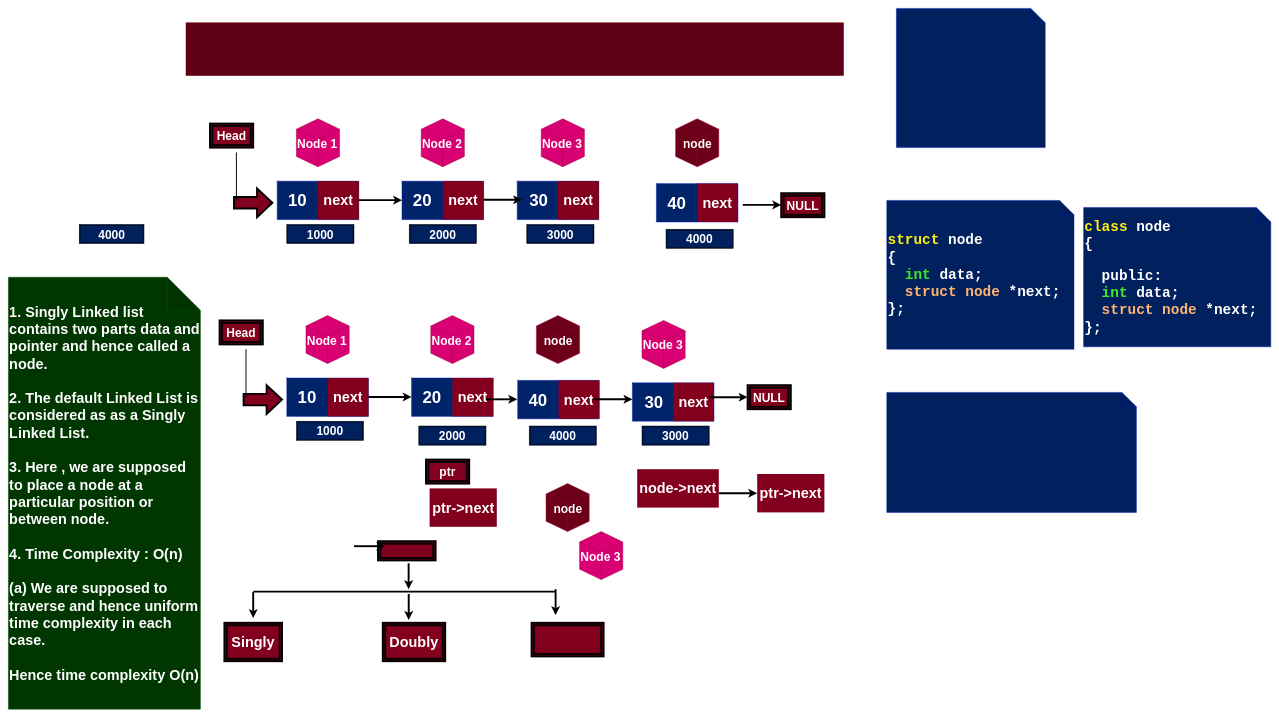
Some shapes in this 1279 by 718 pixel diagram are drawn without their labels. The shapes that lost their labels are listed below. From the top down, each one's box as (x1, y1, x2, y2) in pixels, then its label:
(186, 22, 844, 76): Linked List Operation | Insert at a Particular Position | Between Nodes
(896, 8, 1045, 148): Class Struct Without Method Create Method Void , Return
(886, 392, 1136, 512): First node Pointer,Reference is enough to access the whole linked List data.
(377, 540, 436, 561): Types
(530, 622, 604, 657): Circular
